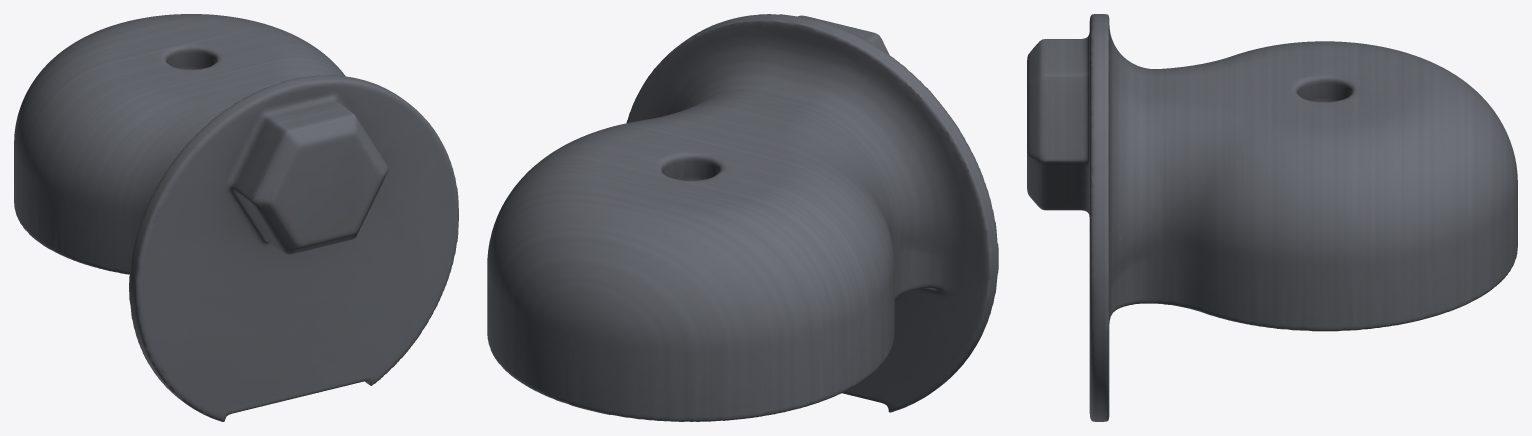
The model's file is left_elbow_inword.obj.
The picture shows the model from 3 angles, left to right: view 1: azimuth 30°, elevation 25°; view 2: azimuth 150°, elevation 25°; view 3: azimuth 270°, elevation 25°; orthographic projection. The views are drawn at different scales.
Visible parts, largest first — view 1: left_elbow_inword; view 2: left_elbow_inword; view 3: left_elbow_inword.
Boxes of the visible parts, left/top/right/bottom form: left_elbow_inword: left=14, top=14, right=458, bottom=421; left_elbow_inword: left=487, top=14, right=998, bottom=421; left_elbow_inword: left=1027, top=14, right=1517, bottom=421.
Size of the model in its own units: 0.056 by 0.0529 by 0.0674.
1 material, 1 textured.
